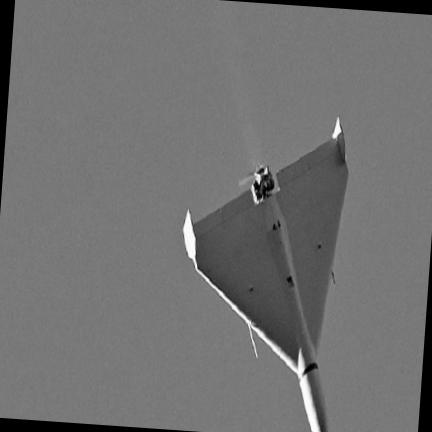Shahed: (183, 118, 348, 431)
